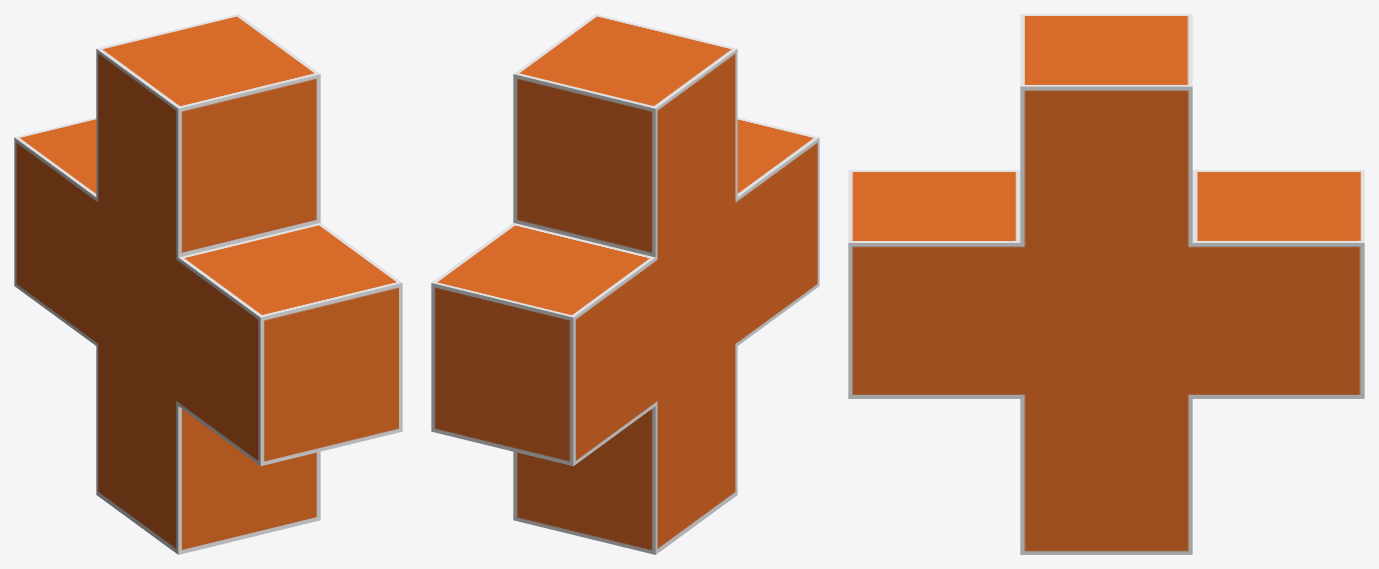
The model's file is healUP.fbx.
3 views of the same model, side by side, from view 1: azimuth 30°, elevation 25°; view 2: azimuth 150°, elevation 25°; view 3: azimuth 270°, elevation 25° (orthographic). The views are drawn at different scales.
Visible parts, largest first — view 1: healUP; view 2: healUP; view 3: healUP.
Boxes of the visible parts, bbox=[...] form: healUP: bbox=[14, 14, 402, 554]; healUP: bbox=[431, 14, 819, 554]; healUP: bbox=[848, 14, 1364, 554].
Bounding box in the file's own units: 40 × 120 × 120.
1 material, 1 textured.
